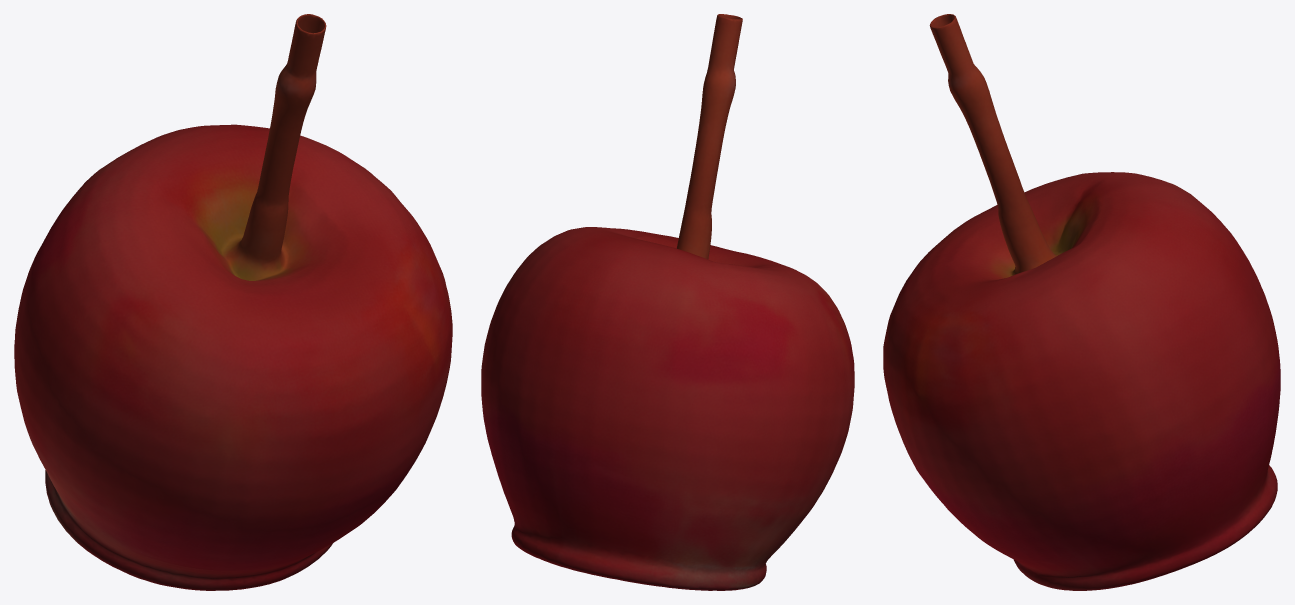
File: kitchen-apple.glb
The picture shows the model from 3 angles, left to right: view 1: azimuth 30°, elevation 25°; view 2: azimuth 150°, elevation 25°; view 3: azimuth 270°, elevation 25°; orthographic projection. The views are drawn at different scales.
Size of the model in its own units: 0.5845 by 0.8732 by 0.5777.
Materials: 1 (1 with a texture image).
